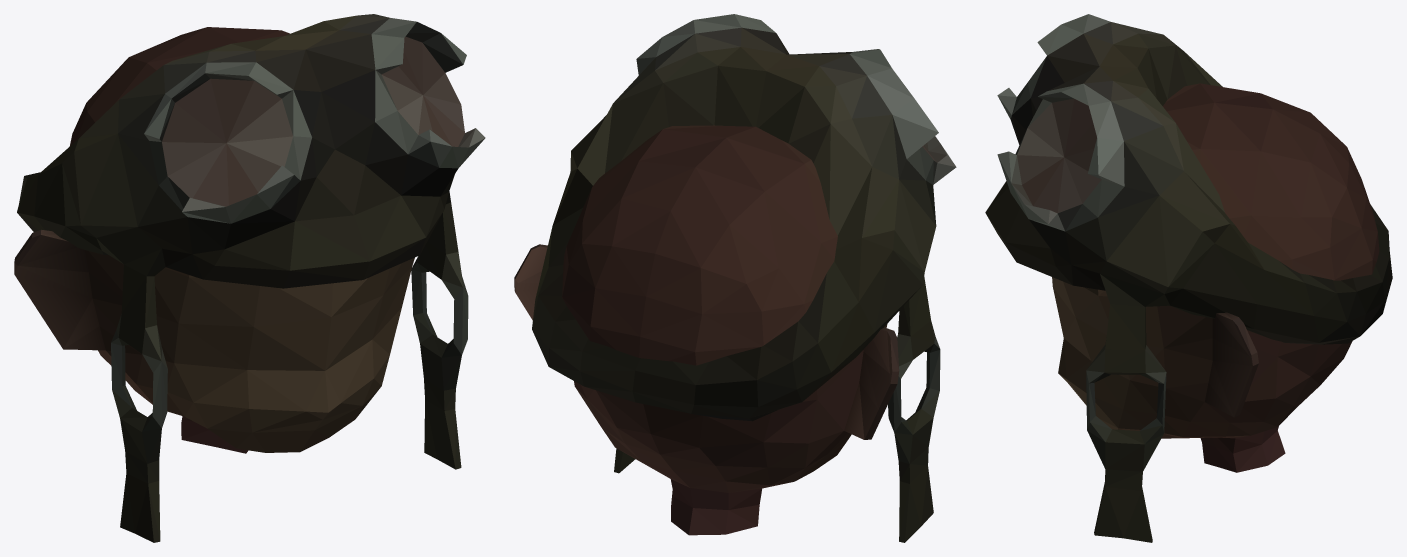
The model's file is helm_darkskin_bald_goggles.fbx.
3 views of the same model, side by side, from view 1: azimuth 30°, elevation 25°; view 2: azimuth 150°, elevation 25°; view 3: azimuth 270°, elevation 25° (orthographic). The views are drawn at different scales.
Parts seen in each view (by area): view 1: helm_darkskin_bald_goggles; view 2: helm_darkskin_bald_goggles; view 3: helm_darkskin_bald_goggles.
Boxes of the visible parts, x1,y1,x2,y2 form: helm_darkskin_bald_goggles: (14,14,485,542); helm_darkskin_bald_goggles: (514,14,956,542); helm_darkskin_bald_goggles: (985,14,1392,542).
Bounding box in the file's own units: 1.12 × 1.23 × 1.09.
